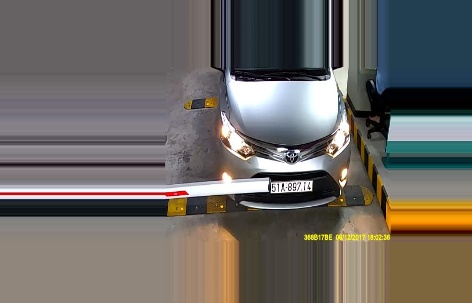plate: (260, 177, 314, 192)
